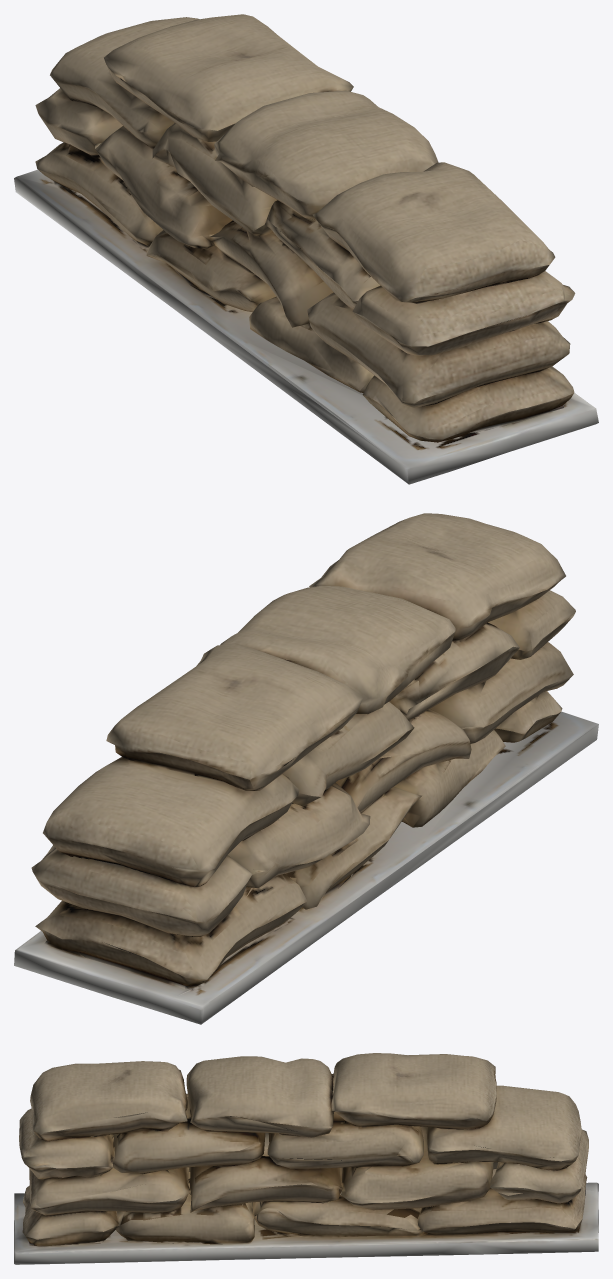
3 views of the same model, one above another, from view 1: azimuth 30°, elevation 25°; view 2: azimuth 150°, elevation 25°; view 3: azimuth 270°, elevation 25° (orthographic). The views are drawn at different scales.
Parts seen in each view (by area): view 1: repaired; view 2: repaired; view 3: repaired.
Part boxes in pixels (left/top/right/bottom): repaired: left=14, top=14, right=598, bottom=484; repaired: left=14, top=513, right=598, bottom=1024; repaired: left=14, top=1053, right=598, bottom=1264.
Bounding box in the file's own units: 0.2951 × 0.32 × 0.9994.
Materials: 1 (1 with a texture image).
